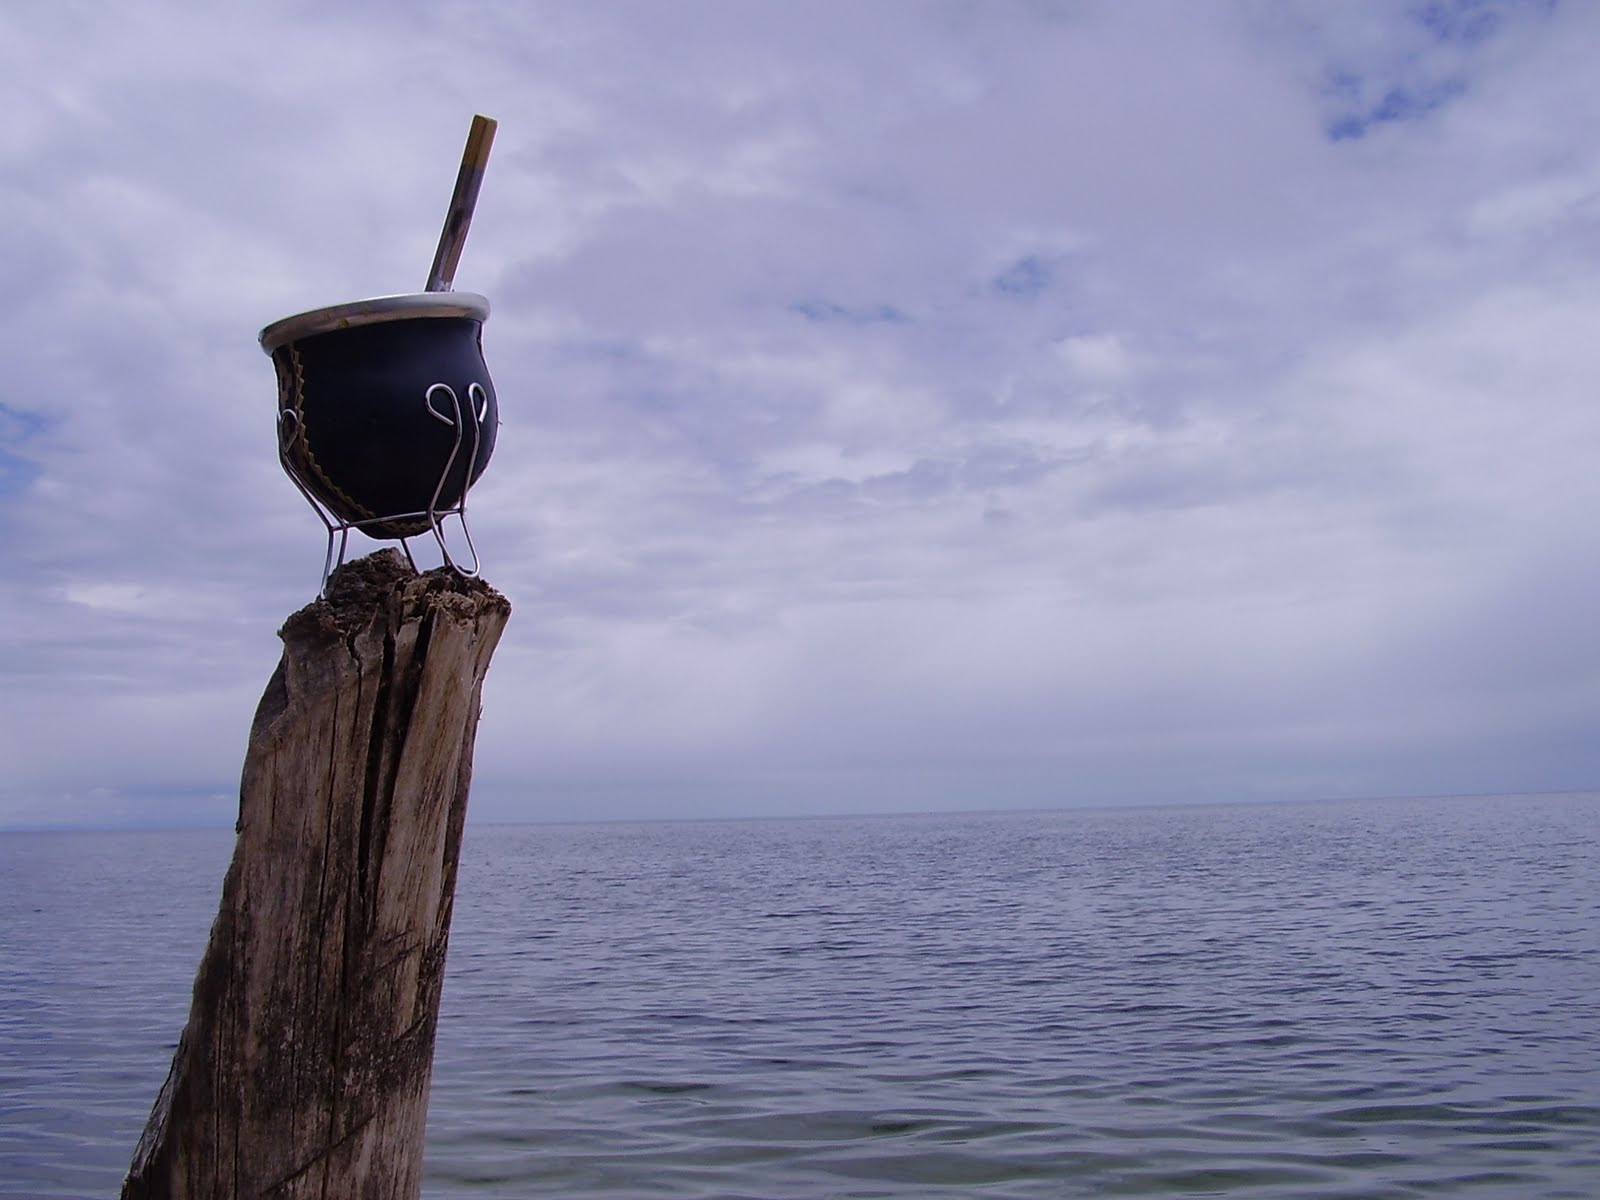calabaza: (239, 251, 548, 623)
mate: (241, 253, 551, 625)
